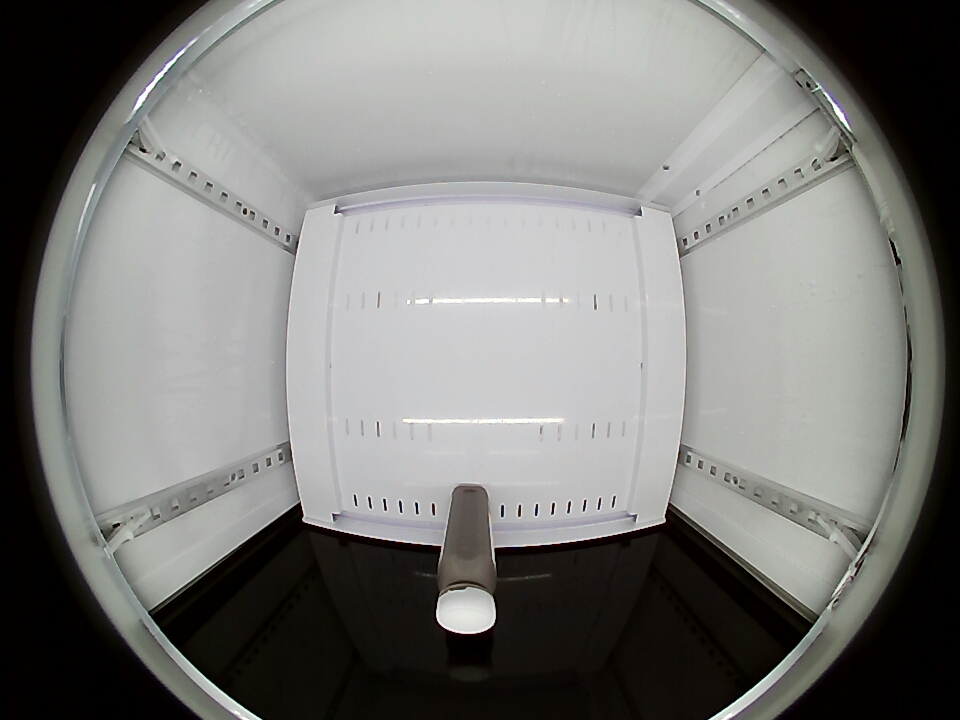youyanggudong: (434, 549, 499, 634)
